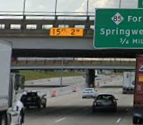1: (51, 28, 56, 36)
2: (69, 27, 76, 38)
5: (55, 27, 61, 37)
overheadsign: (48, 26, 85, 38)
